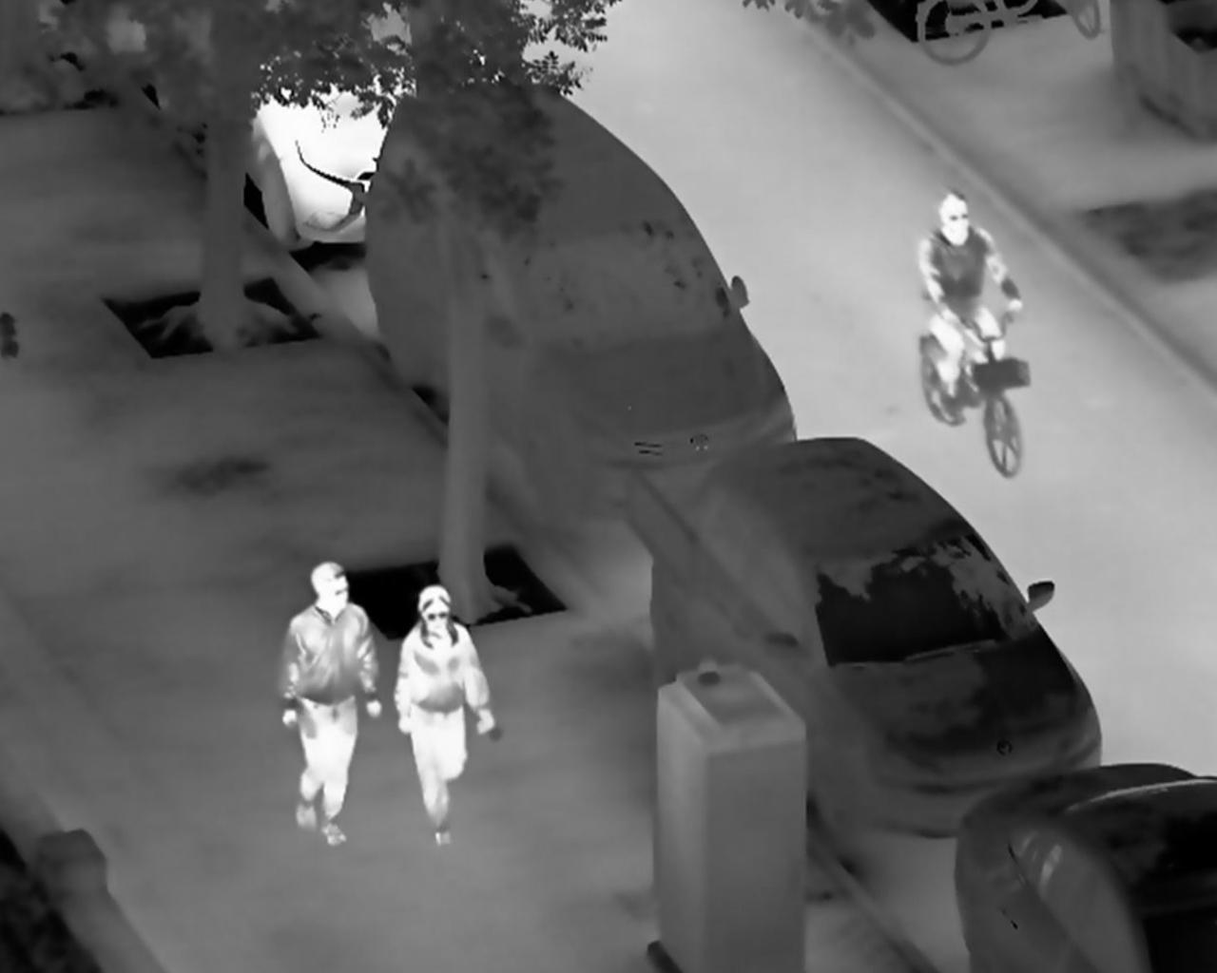person: (278, 560, 386, 846), (390, 583, 505, 850), (913, 187, 1029, 429)
